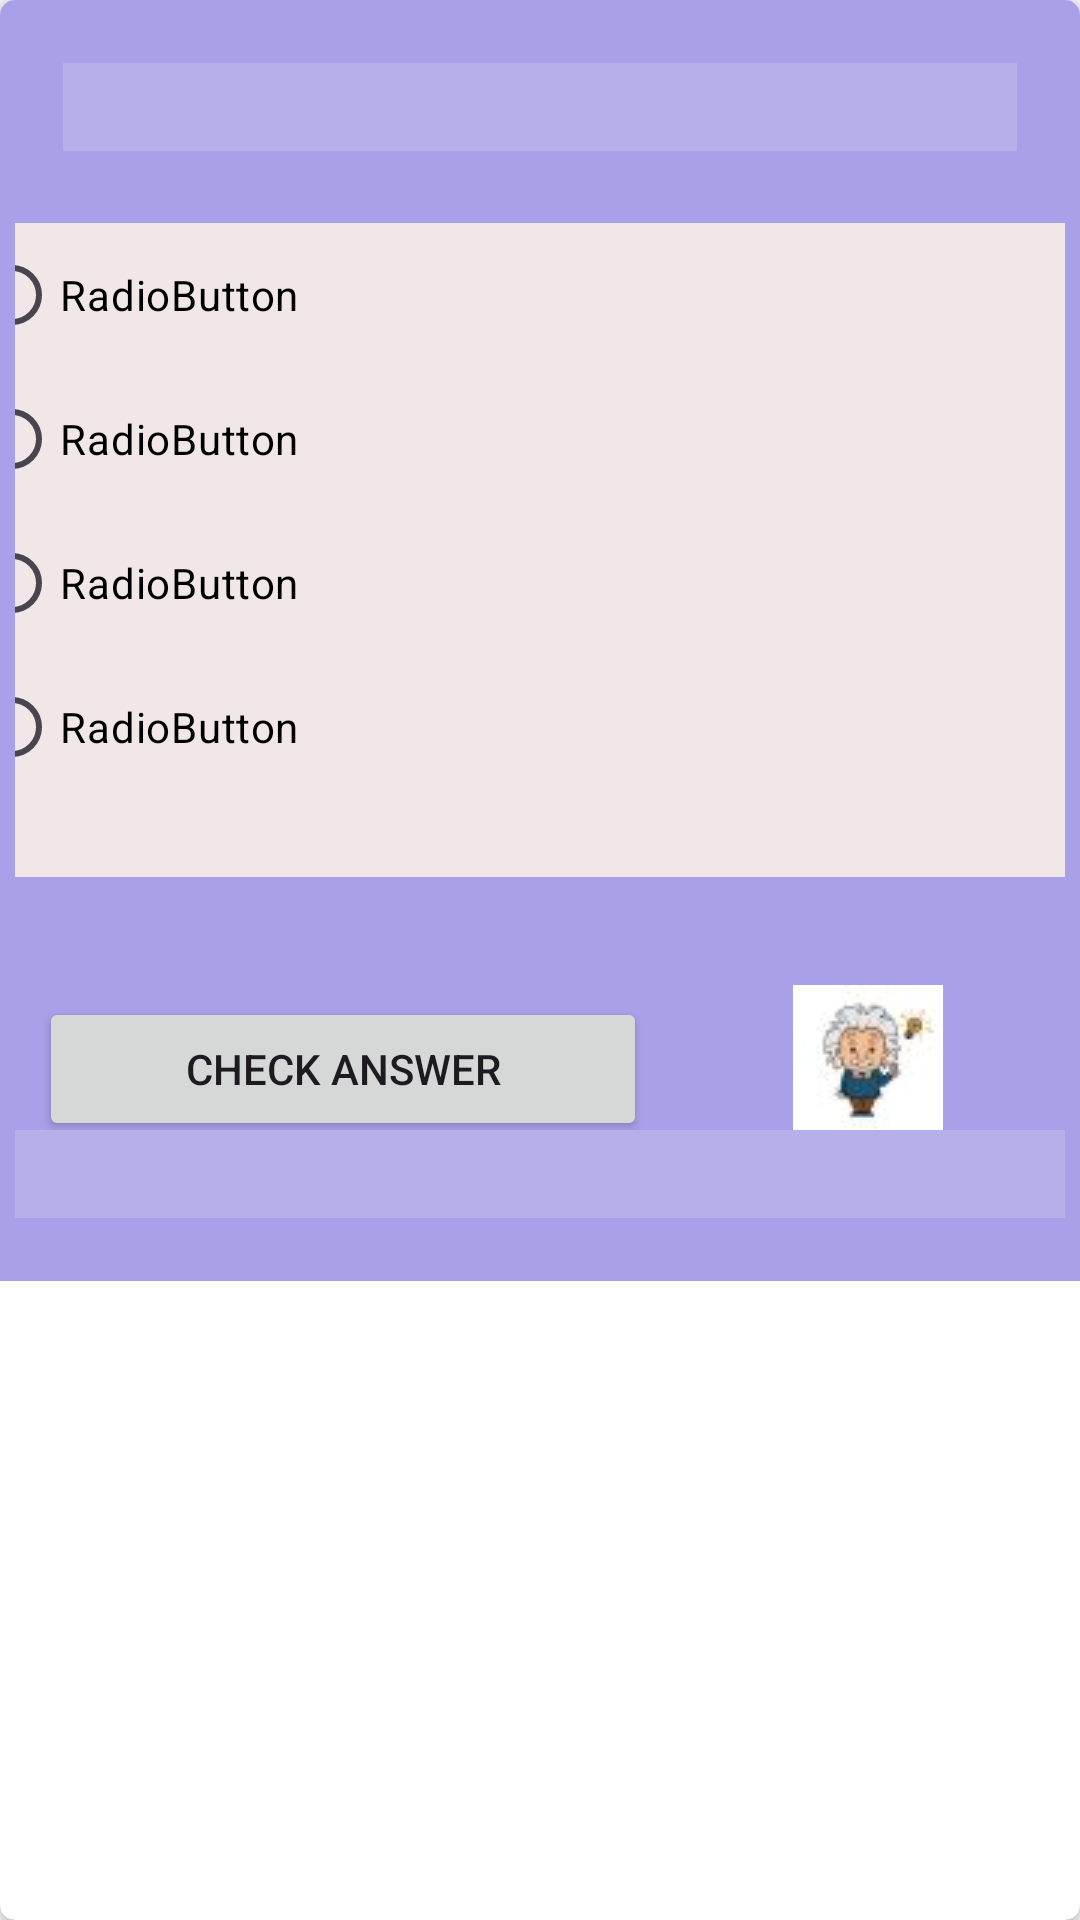

Named icons in this screenshot (1080px x 1920px) and their bounding boxes, (x1, y1, x2, y2):
hint: (793, 985, 943, 1130)
